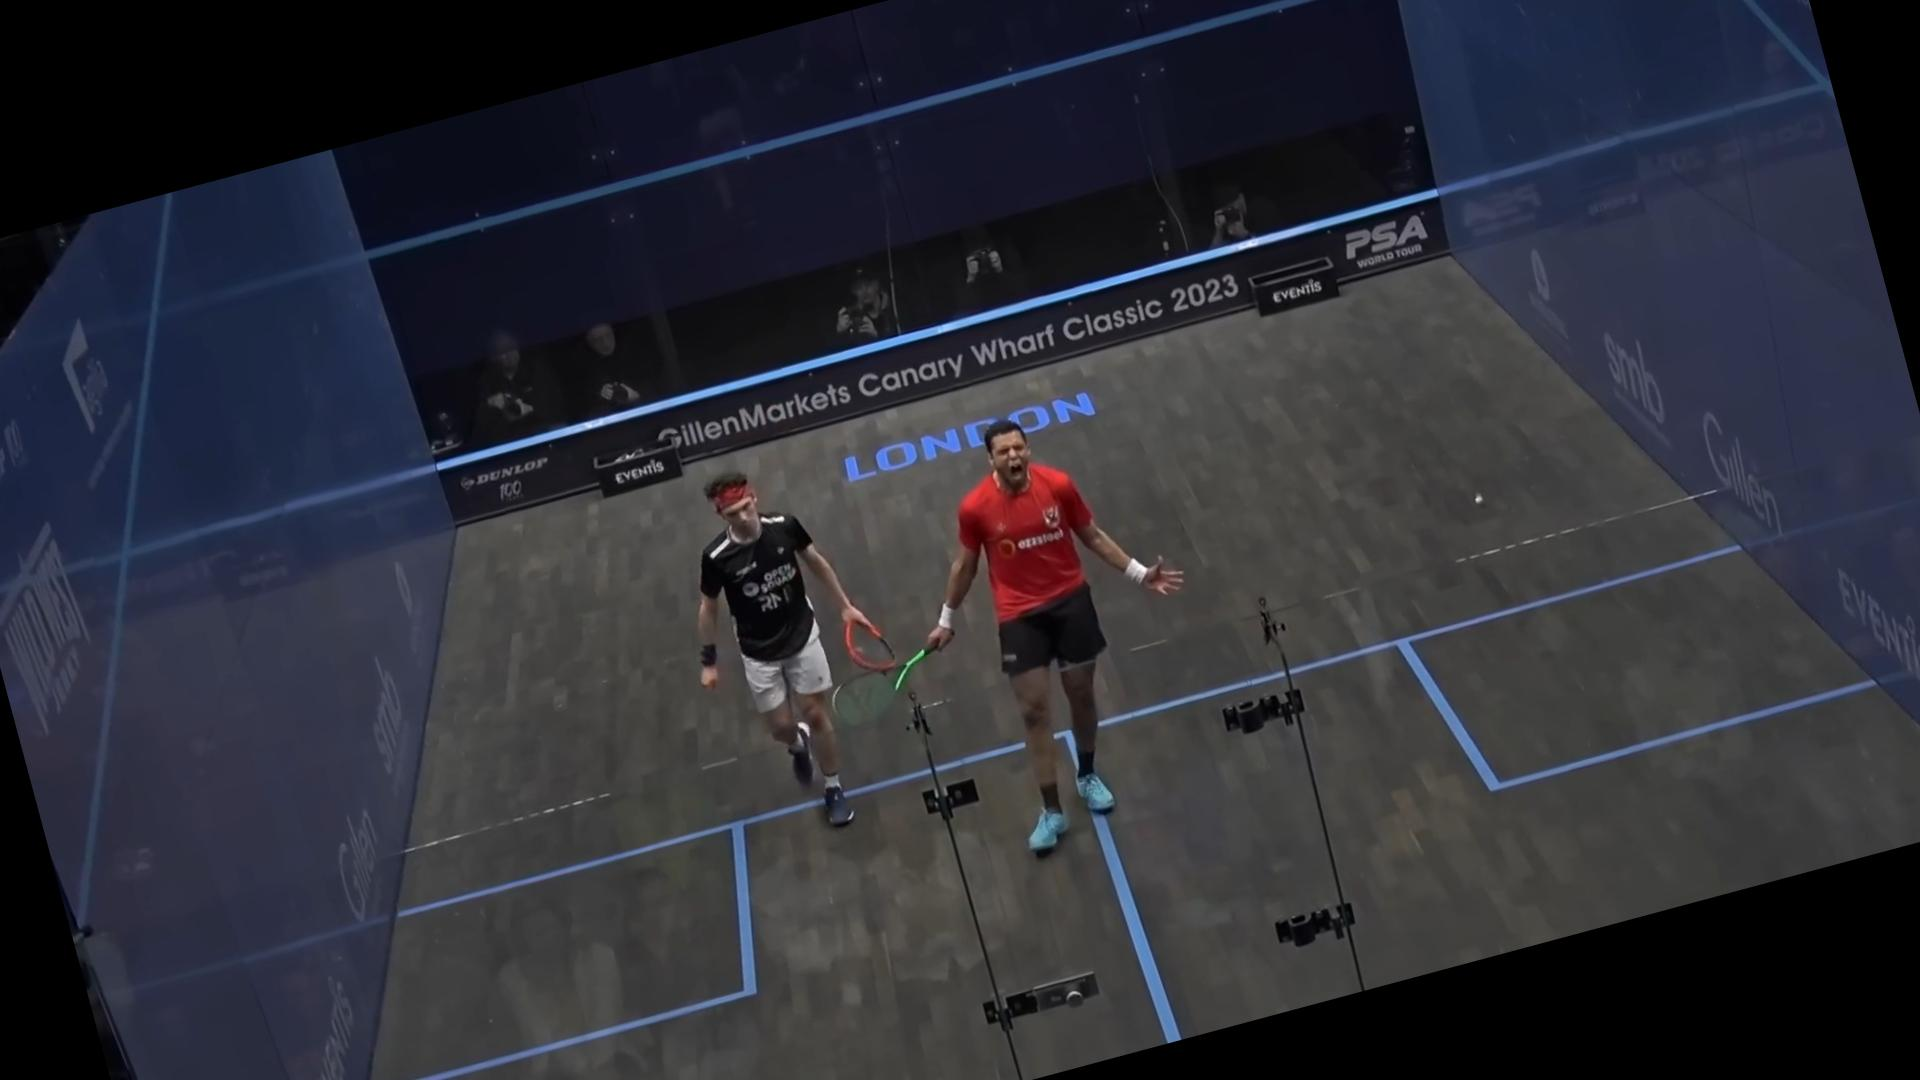Racket: (804, 654, 964, 764), (822, 574, 907, 671)
